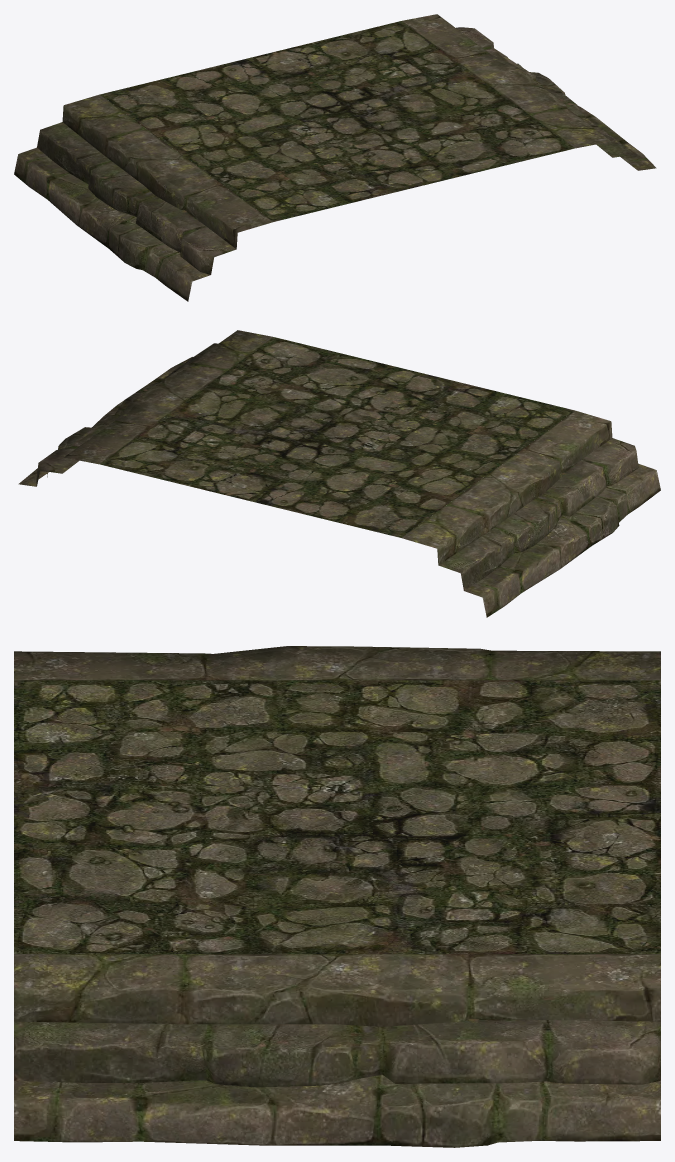
The model's file is Plaza_Stair_01-transformed.glb.
3 views of the same model, one above another, from view 1: azimuth 30°, elevation 25°; view 2: azimuth 150°, elevation 25°; view 3: azimuth 270°, elevation 25° (orthographic). The views are drawn at different scales.
Visible parts, largest first — view 1: default; view 2: default; view 3: default.
Part boxes in pixels (x1,y1,x2,y2): default: [14, 14, 656, 301]; default: [18, 330, 660, 617]; default: [14, 646, 660, 1147].
Size of the model in its own units: 9.7 by 1.12 by 6.
Materials: 2 (2 with a texture image).
